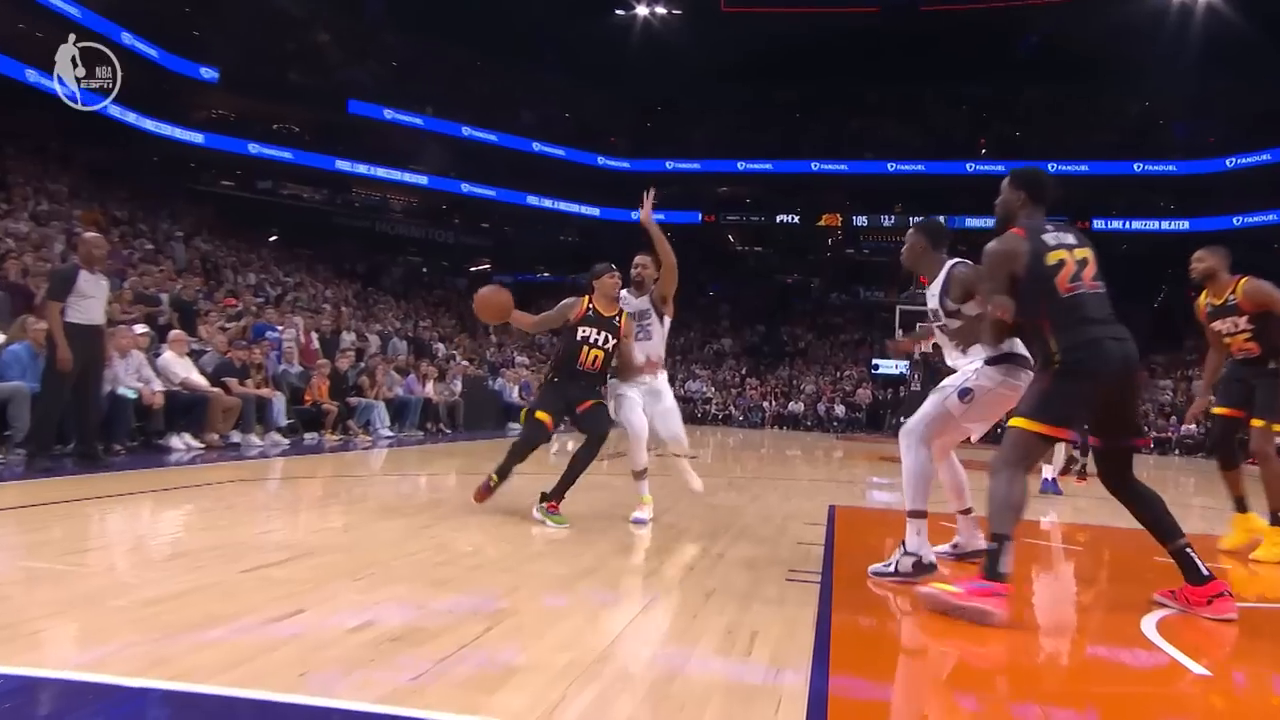ball: (465, 279, 521, 331)
